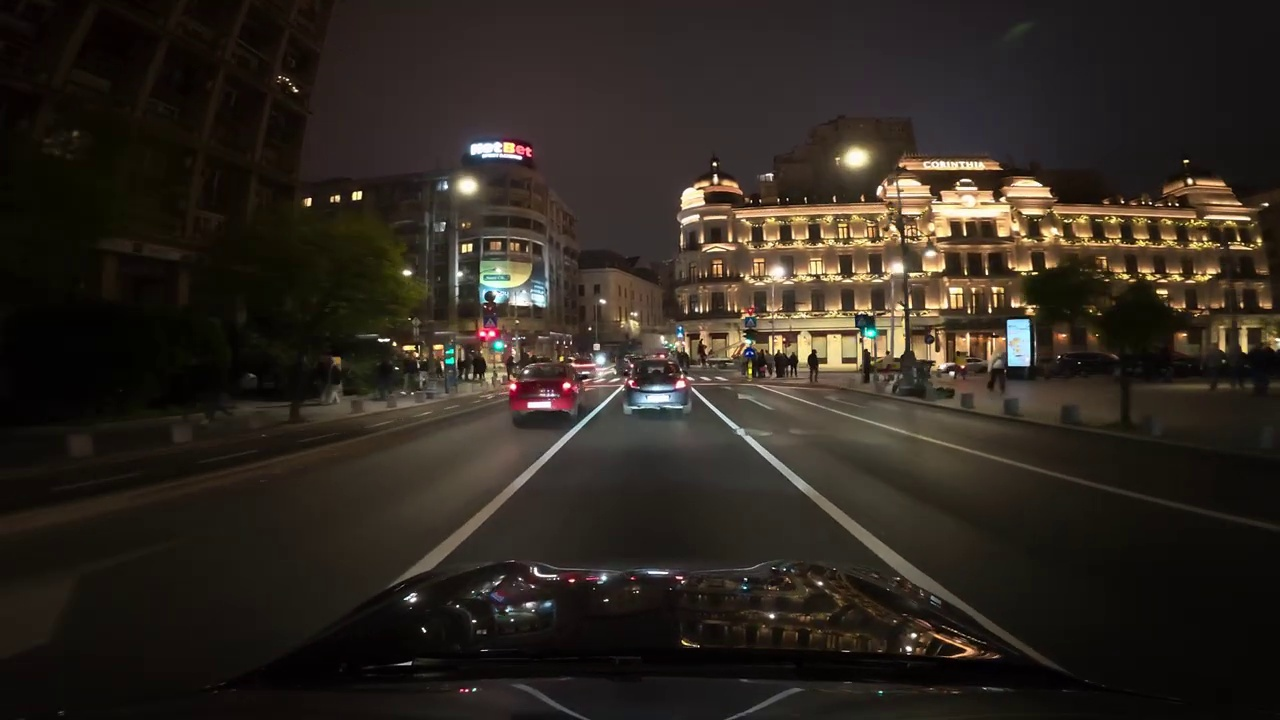acesa: (838, 145, 870, 171), (453, 175, 480, 200)
